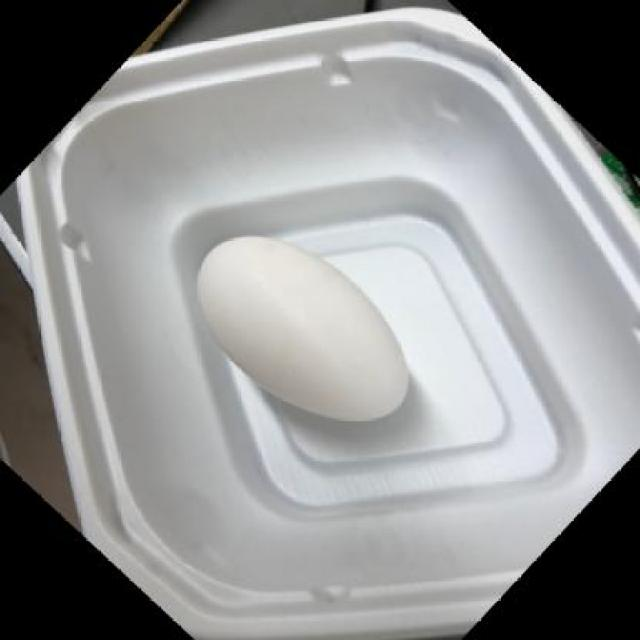egg: (192, 229, 421, 425)
